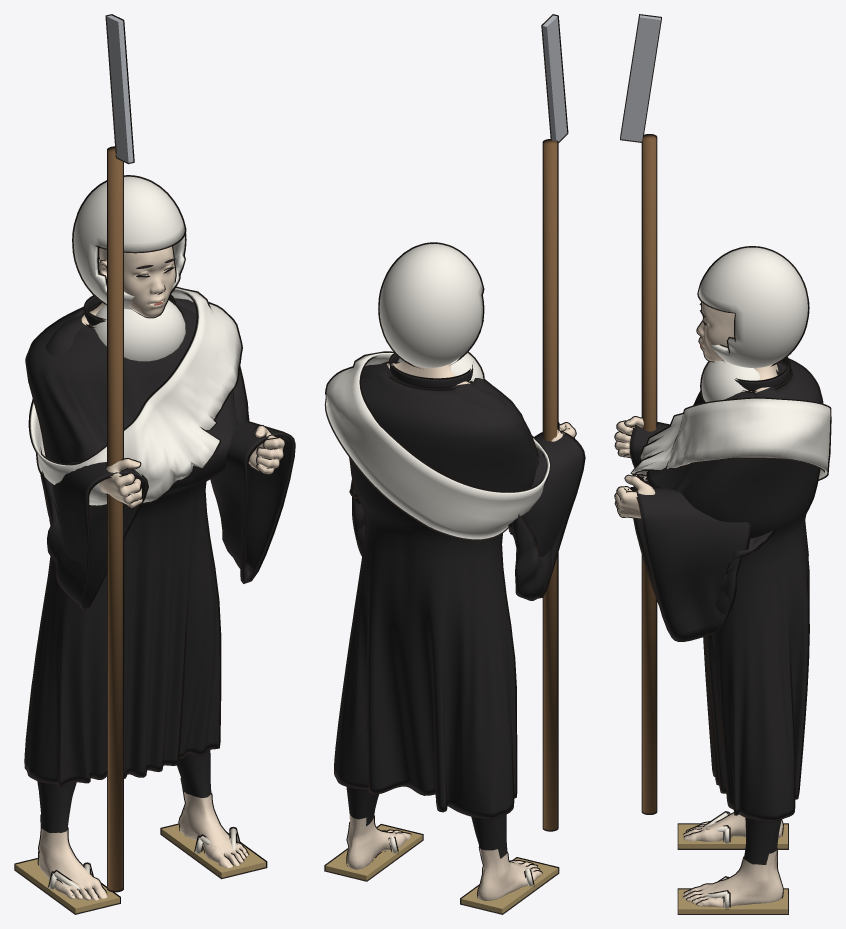
Rendered from sou_sohei.glb.
The picture shows the model from 3 angles, left to right: view 1: azimuth 30°, elevation 25°; view 2: azimuth 150°, elevation 25°; view 3: azimuth 270°, elevation 25°; orthographic projection. The views are drawn at different scales.
Parts seen in each view (by area): view 1: koromo, Human, kesa, naginata_e, sode.R, sode.L, katou, katou_mune, koromo_sen, naginata_ha, Human_sen, naginata_e_sen (+7 smaller); view 2: koromo, kesa, katou, naginata_e, Human, sode.R, koromo_sen, naginata_e_sen, naginata_ha, zori.L, kesa_sen, zori.R (+4 smaller); view 3: koromo, sode.L, kesa, katou, Human, naginata_e, koromo_sen, naginata_ha, naginata_e_sen, katou_mune, zori.L, kesa_sen (+7 smaller).
Part boxes in pixels (bbox=[...]): koromo: bbox=[26, 305, 247, 786]; Human: bbox=[37, 246, 284, 900]; kesa: bbox=[30, 288, 241, 505]; naginata_e: bbox=[108, 148, 122, 890]; sode.R: bbox=[42, 456, 147, 608]; sode.L: bbox=[211, 422, 294, 582]; katou: bbox=[73, 176, 184, 309]; katou_mune: bbox=[92, 300, 185, 361]; koromo_sen: bbox=[24, 307, 249, 787]; naginata_ha: bbox=[106, 15, 133, 162]; Human_sen: bbox=[37, 246, 285, 898]; naginata_e_sen: bbox=[107, 146, 123, 892]; koromo: bbox=[335, 363, 538, 817]; kesa: bbox=[326, 352, 549, 539]; katou: bbox=[379, 244, 482, 368]; naginata_e: bbox=[543, 140, 557, 830]; Human: bbox=[346, 361, 575, 900]; sode.R: bbox=[509, 432, 583, 599]; koromo_sen: bbox=[334, 361, 539, 818]; naginata_e_sen: bbox=[542, 139, 558, 831]; naginata_ha: bbox=[542, 15, 567, 141]; zori.L: bbox=[325, 825, 422, 880]; kesa_sen: bbox=[324, 351, 550, 540]; zori.R: bbox=[461, 858, 558, 913]; koromo: bbox=[648, 360, 821, 819]; sode.L: bbox=[632, 488, 773, 640]; kesa: bbox=[632, 398, 830, 480]; katou: bbox=[698, 247, 807, 367]; Human: bbox=[615, 302, 790, 907]; naginata_e: bbox=[642, 135, 656, 813]; koromo_sen: bbox=[646, 358, 823, 821]; naginata_ha: bbox=[621, 15, 660, 141]; naginata_e_sen: bbox=[641, 134, 657, 814]; katou_mune: bbox=[701, 360, 759, 401]; zori.L: bbox=[678, 889, 787, 913]; kesa_sen: bbox=[630, 397, 831, 482].
Bounding box in the file's own units: 0.5256 × 2.15 × 0.5122.
